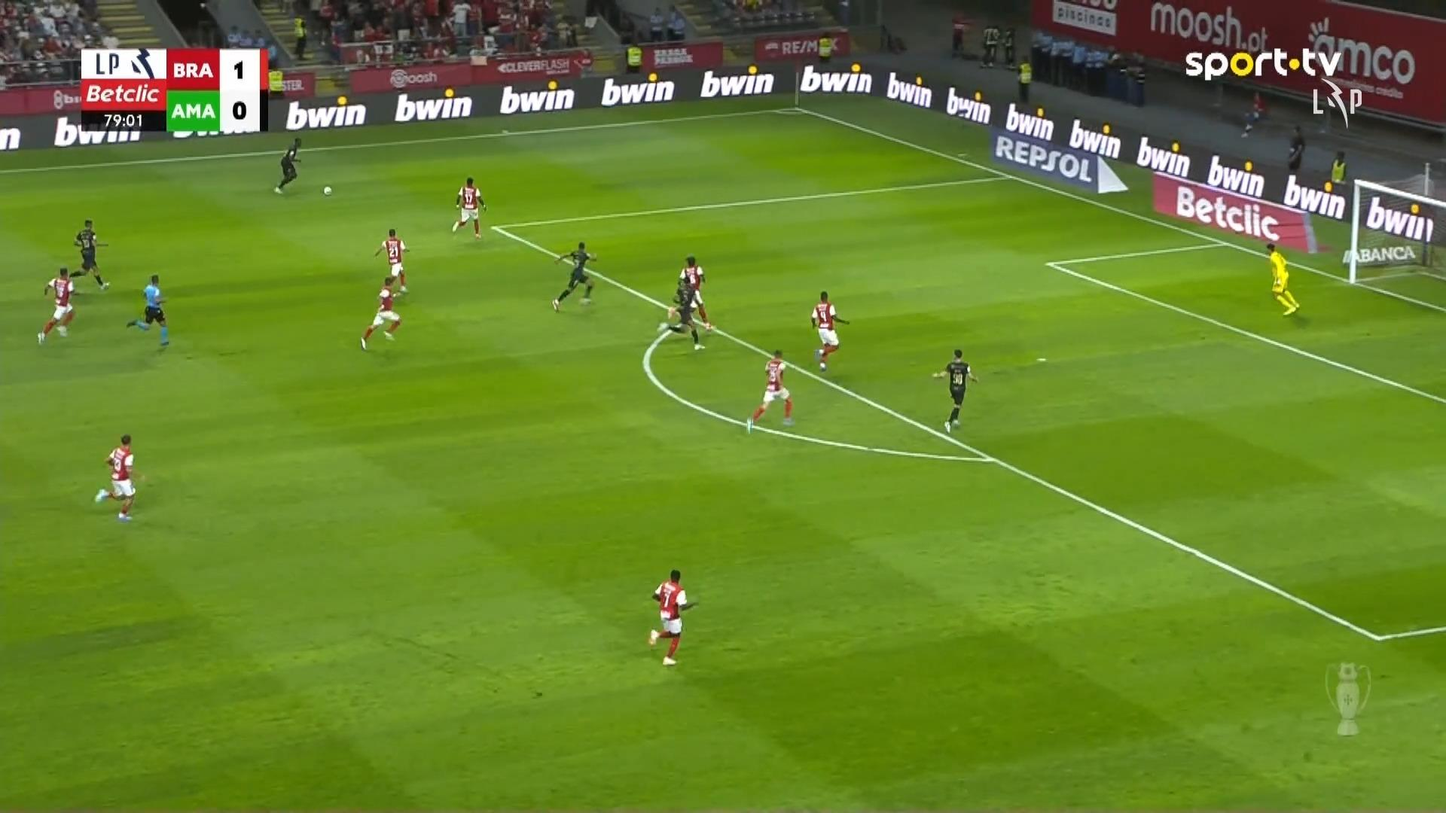ball: (322, 186, 331, 196)
goalkeeper: (1265, 241, 1300, 316)
player: (647, 568, 697, 665), (746, 349, 795, 433), (93, 434, 139, 521), (931, 348, 978, 432), (658, 282, 711, 350), (551, 240, 598, 312), (810, 290, 849, 372), (36, 266, 76, 344), (69, 219, 110, 291), (358, 282, 401, 350), (676, 254, 713, 331), (373, 228, 410, 295), (450, 176, 486, 239), (273, 136, 302, 194)
referee: (125, 273, 170, 348)
